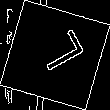L_SW: (26, 29, 84, 81)
